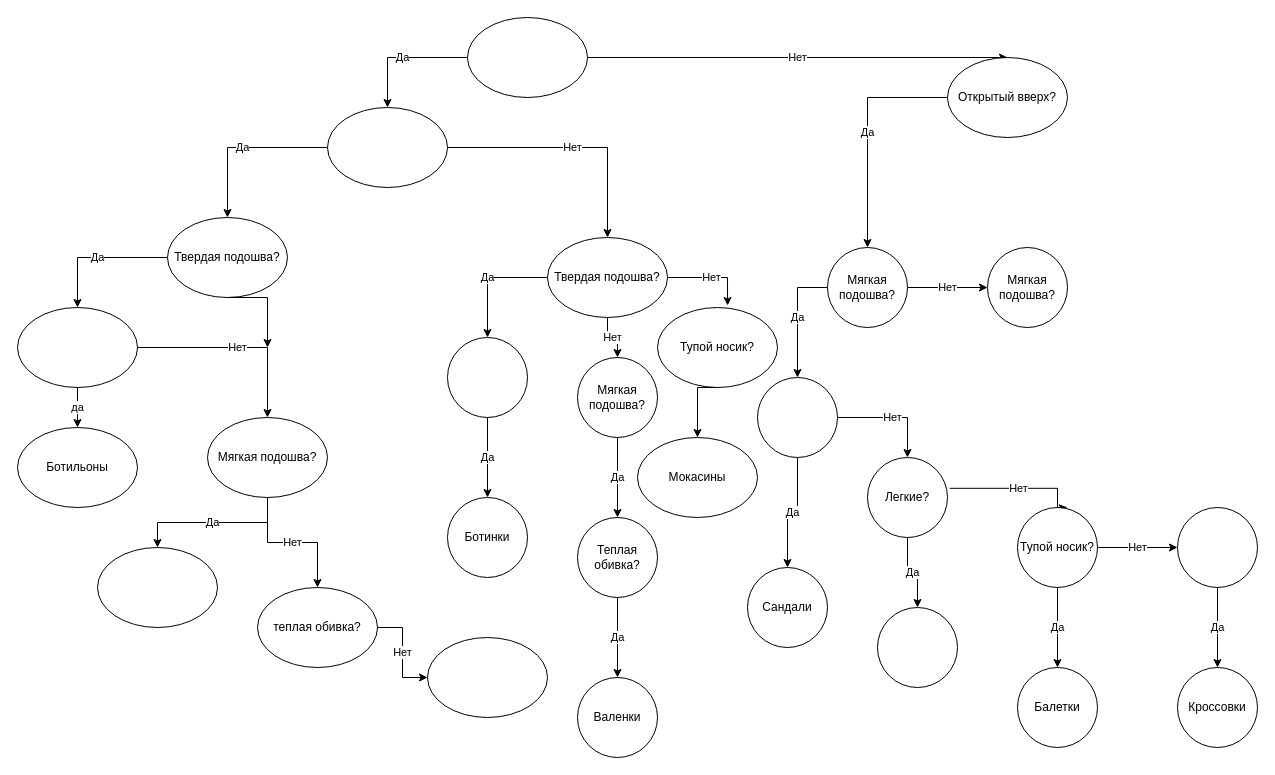
This 1275x775 diagram has some shape labels left out. Each missing label, with the box of its shape:
Высокое голенище: (16, 306, 138, 388)
Для бега?: (1176, 506, 1258, 588)
Закрытый вверх?: (466, 16, 588, 98)
Кеды: (96, 546, 218, 628)
Липучки?: (756, 376, 838, 458)
Лоферы: (426, 636, 548, 718)
тапочки: (876, 606, 958, 688)
Теплая обивка: (446, 336, 528, 418)
Шнурки?: (326, 106, 448, 188)
